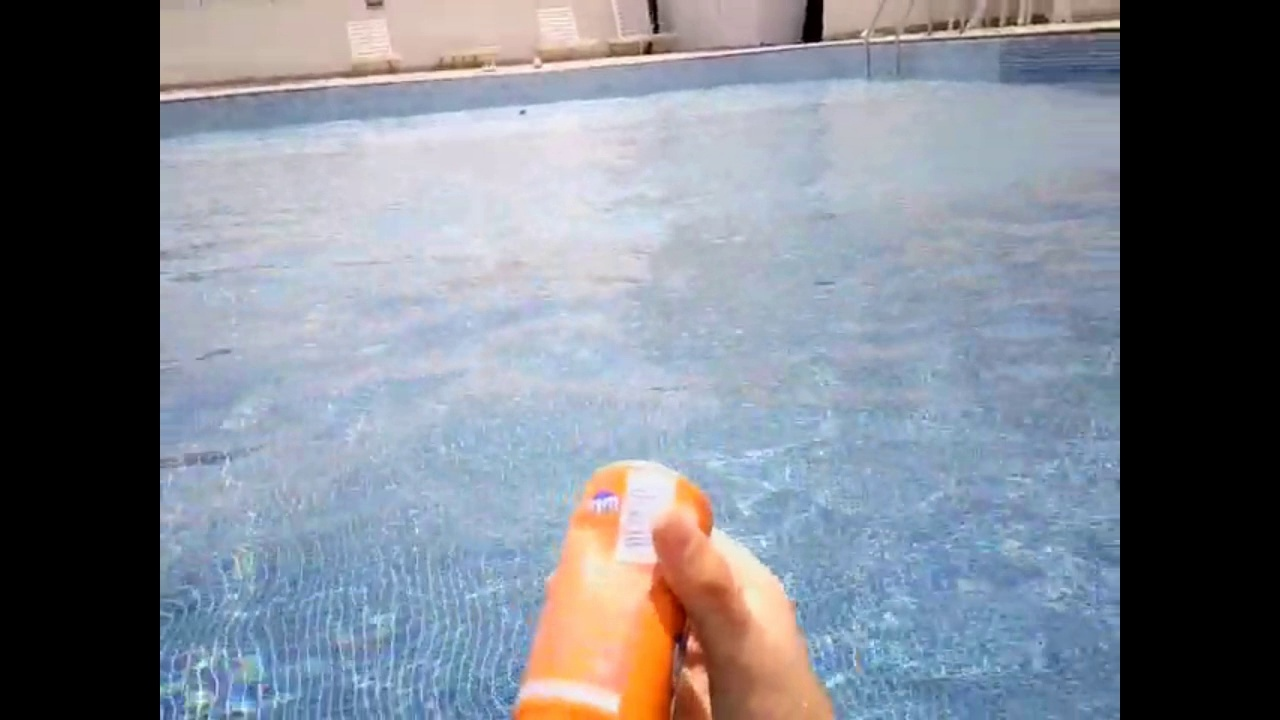debris: (506, 456, 718, 720), (514, 106, 527, 117)
